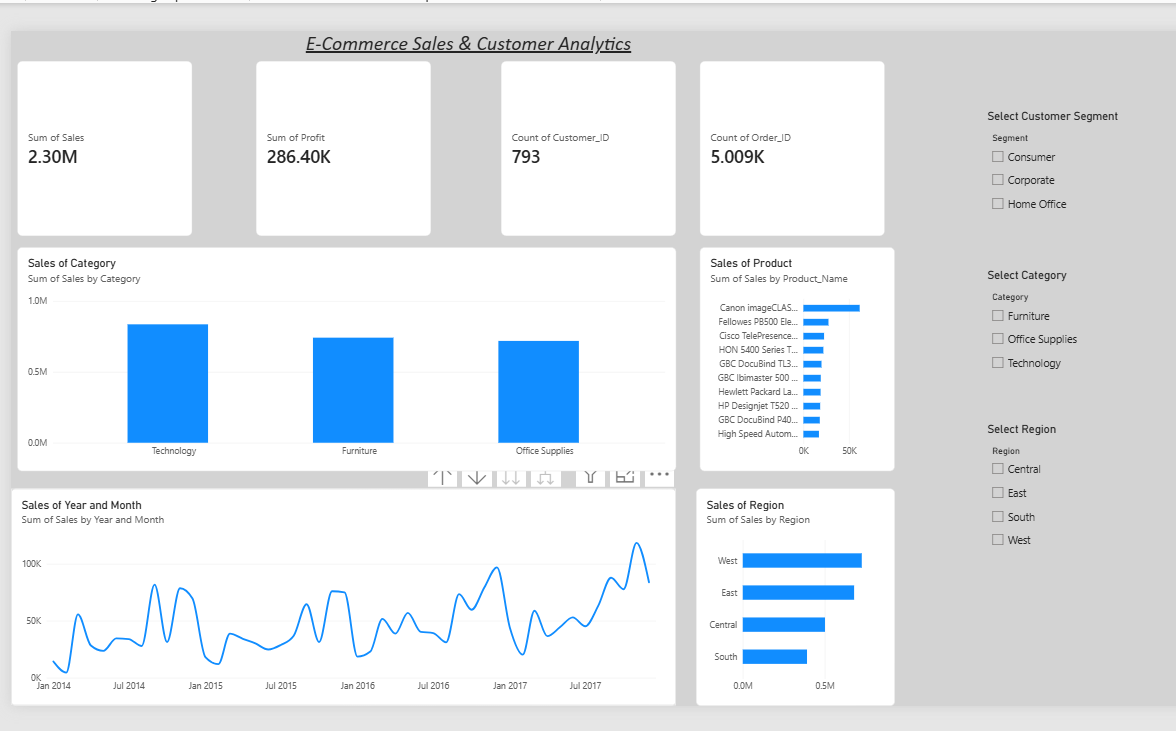

Layout of this report page (visuals, bound fields, positions):
{"tool":"powerbi","page":{"name":"Page 1","canvas":[1920,1080],"ordinal":0},"visuals":[{"type":"cardVisual","fields":{"Data":["Sum(Superstore_Cleaned.Sales)"]},"box":[10,48,280,280],"z":0},{"type":"cardVisual","fields":{"Data":["Sum(Superstore_Cleaned.Profit)"]},"box":[392,48,280,280],"z":1},{"type":"cardVisual","fields":{"Data":["Count(Superstore_Cleaned.Customer_ID)"]},"box":[784,48,280,280],"z":2},{"type":"cardVisual","fields":{"Data":["Count(Superstore_Cleaned.Order_ID)"]},"box":[1102,48,296,280],"z":3},{"type":"lineChart","title":"Sales of Year and Month","fields":{"Category":["Superstore_Cleaned.Order_Date.Variation.Date Hierarchy.Year","Superstore_Cleaned.Order_Date.Variation.Date Hierarchy.Month"],"Y":["Sum(Superstore_Cleaned.Sales)"]},"box":[0,732,1064,348],"z":4},{"type":"clusteredColumnChart","title":" Sales of Category","fields":{"Category":["Superstore_Cleaned.Category"],"Y":["Sum(Superstore_Cleaned.Sales)"]},"box":[10,346,1054,358],"z":5},{"type":"clusteredBarChart","title":"Sales of Region","fields":{"Category":["Superstore_Cleaned.Region"],"Y":["Sum(Superstore_Cleaned.Sales)"]},"box":[1096,732,318,348],"z":6},{"type":"clusteredBarChart","title":"Sales of Product","fields":{"Category":["Superstore_Cleaned.Product_Name"],"Y":["Sum(Superstore_Cleaned.Sales)"]},"box":[1102,346,312,358],"z":7},{"type":"textbox","box":[1150,540,526,316],"z":8},{"type":"textbox","box":[338,0,788,62],"z":9},{"type":"slicer","title":"Select Region","fields":{"Values":["Superstore_Cleaned.Region"]},"box":[1562,626,290,280],"z":10},{"type":"slicer","title":"Select Category","fields":{"Values":["Superstore_Cleaned.Category"]},"box":[1562,380,290,418],"z":11},{"type":"slicer","title":"Select Customer Segment","fields":{"Values":["Superstore_Cleaned.Segment"]},"box":[1562,126,290,362],"z":12}]}

Visuals, with their boxes in screenshot pixels (x1, y1, x2, y2):
cardVisual - Sum(Superstore_Cleaned.Sales): <box>12,58,188,233</box>
cardVisual - Sum(Superstore_Cleaned.Profit): <box>252,58,427,233</box>
cardVisual - Count(Superstore_Cleaned.Customer_ID): <box>497,58,672,233</box>
cardVisual - Count(Superstore_Cleaned.Order_ID): <box>696,58,882,233</box>
"Sales of Year and Month" lineChart: <box>6,486,672,704</box>
" Sales of Category" clusteredColumnChart: <box>12,244,672,468</box>
"Sales of Region" clusteredBarChart: <box>692,486,892,704</box>
"Sales of Product" clusteredBarChart: <box>696,244,892,468</box>
textbox: <box>726,366,1056,564</box>
textbox: <box>218,28,711,66</box>
"Select Region" slicer: <box>984,420,1166,595</box>
"Select Category" slicer: <box>984,266,1166,527</box>
"Select Customer Segment" slicer: <box>984,106,1166,333</box>
